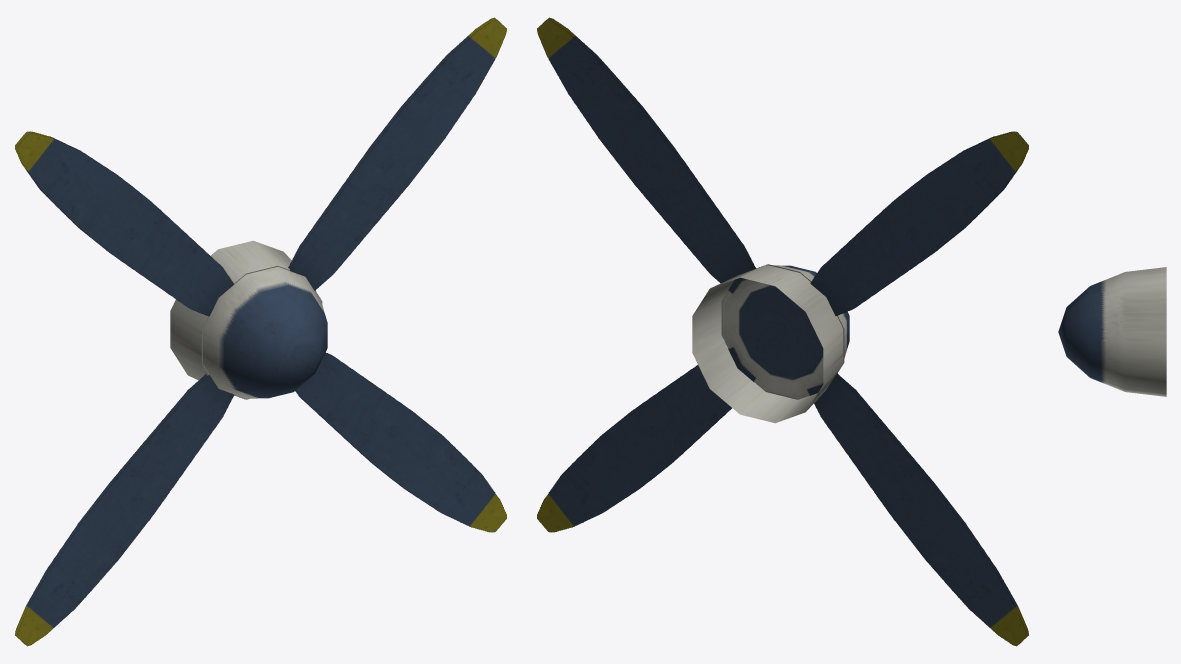
The model's file is flugzeug_rotor.fbx.
3 renders of one model, left to right at view 1: azimuth 30°, elevation 25°; view 2: azimuth 150°, elevation 25°; view 3: azimuth 270°, elevation 25°, orthographic. The views are drawn at different scales.
Visible parts, largest first — view 1: rotor; view 2: rotor; view 3: rotor.
Part boxes in pixels (box(x1,y1,x2,y2)): rotor: box(15, 17, 506, 646); rotor: box(537, 17, 1028, 646); rotor: box(1058, 267, 1166, 396).
Bounding box in the file's own units: 180 × 180 × 40.75.
